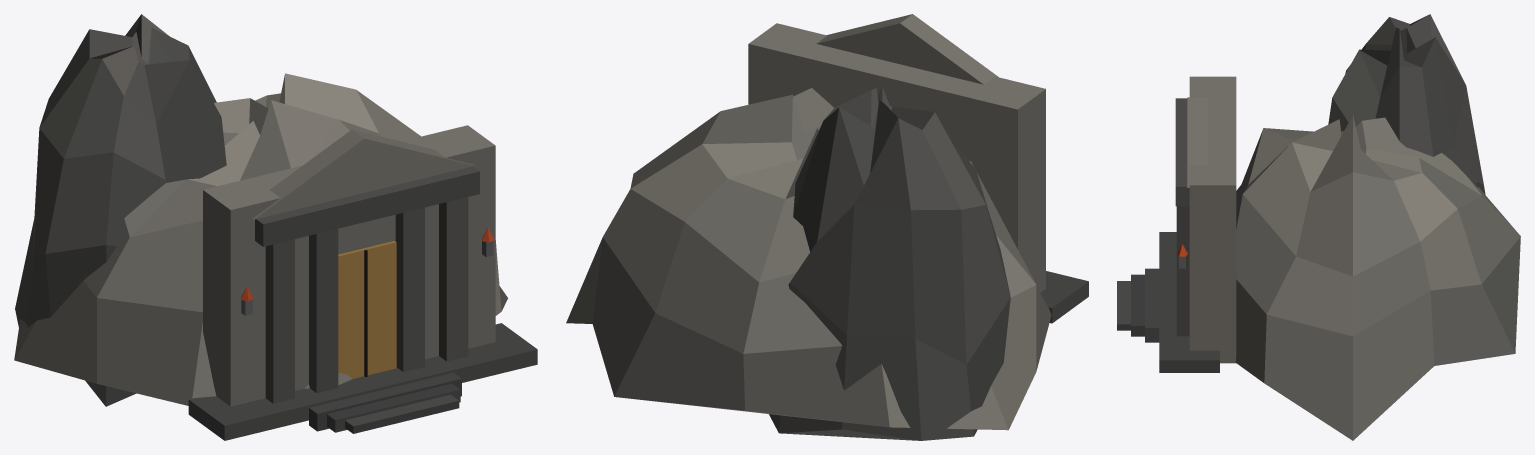
Rendered from dwarf_seat.glb.
3 views of the same model, side by side, from view 1: azimuth 30°, elevation 25°; view 2: azimuth 150°, elevation 25°; view 3: azimuth 270°, elevation 25° (orthographic). The views are drawn at different scales.
Parts seen in each view (by area): view 1: dwarf_seat; view 2: dwarf_seat; view 3: dwarf_seat.
Part boxes in pixels (<box>): dwarf_seat: <box>14,14,537,440</box>; dwarf_seat: <box>566,14,1088,440</box>; dwarf_seat: <box>1117,14,1520,440</box>.
Size of the model in its own units: 19.3 by 13.61 by 17.28.
Materials: 2 (2 with a texture image).
